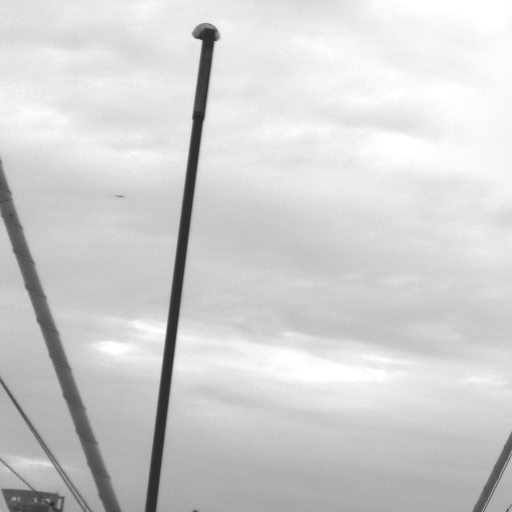uav: (115, 193, 125, 198)
